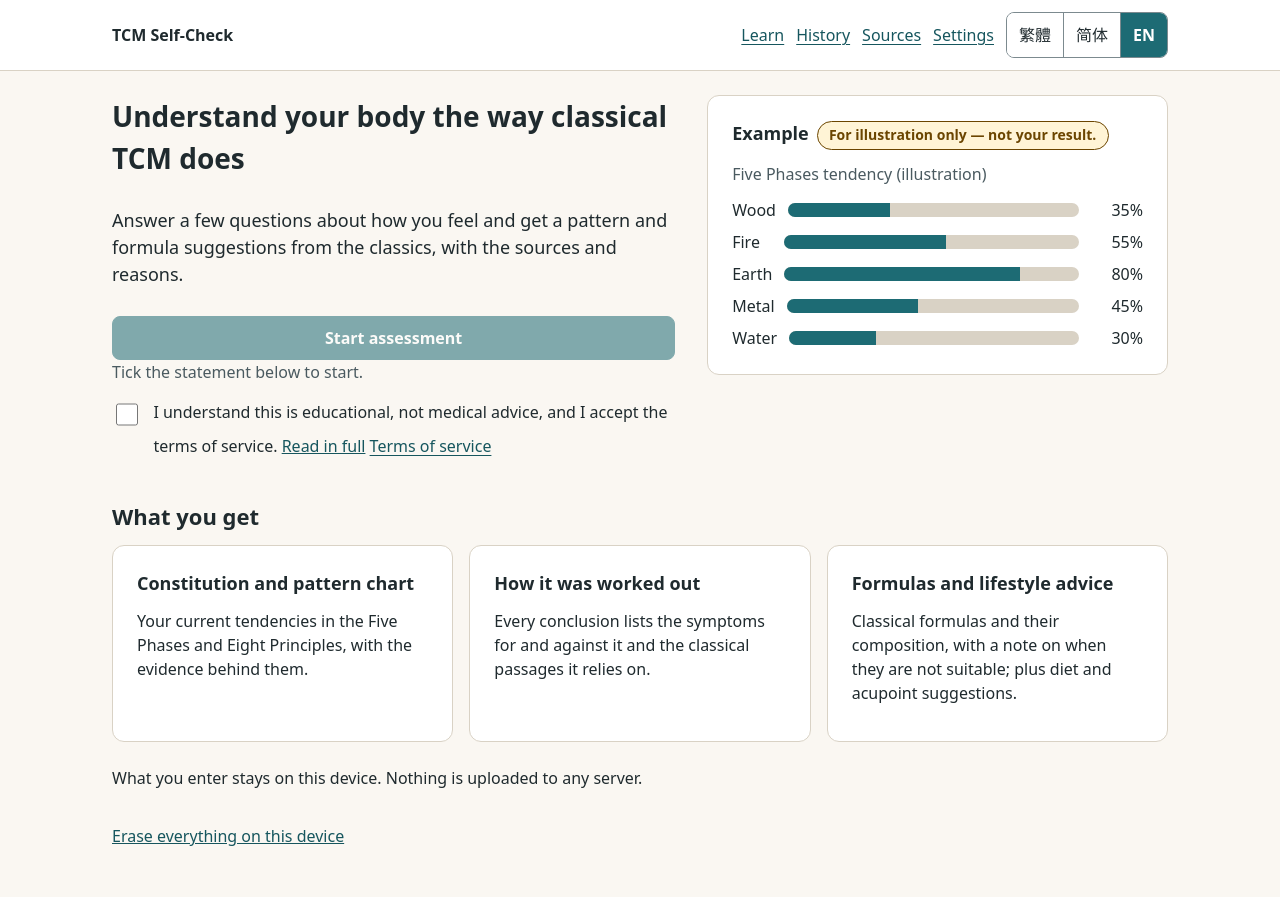
Test case: Landing (S01) › start is disabled, with the reason shown, until the statement is acknowledged
The image size is (1280, 897).
Expected: the button "Start assessment" is disabled, [112,316,675,360]
Click the checkbox labelled "I understand this is educational". click: {"x": 127, "y": 414}
box: [116,403,138,426]
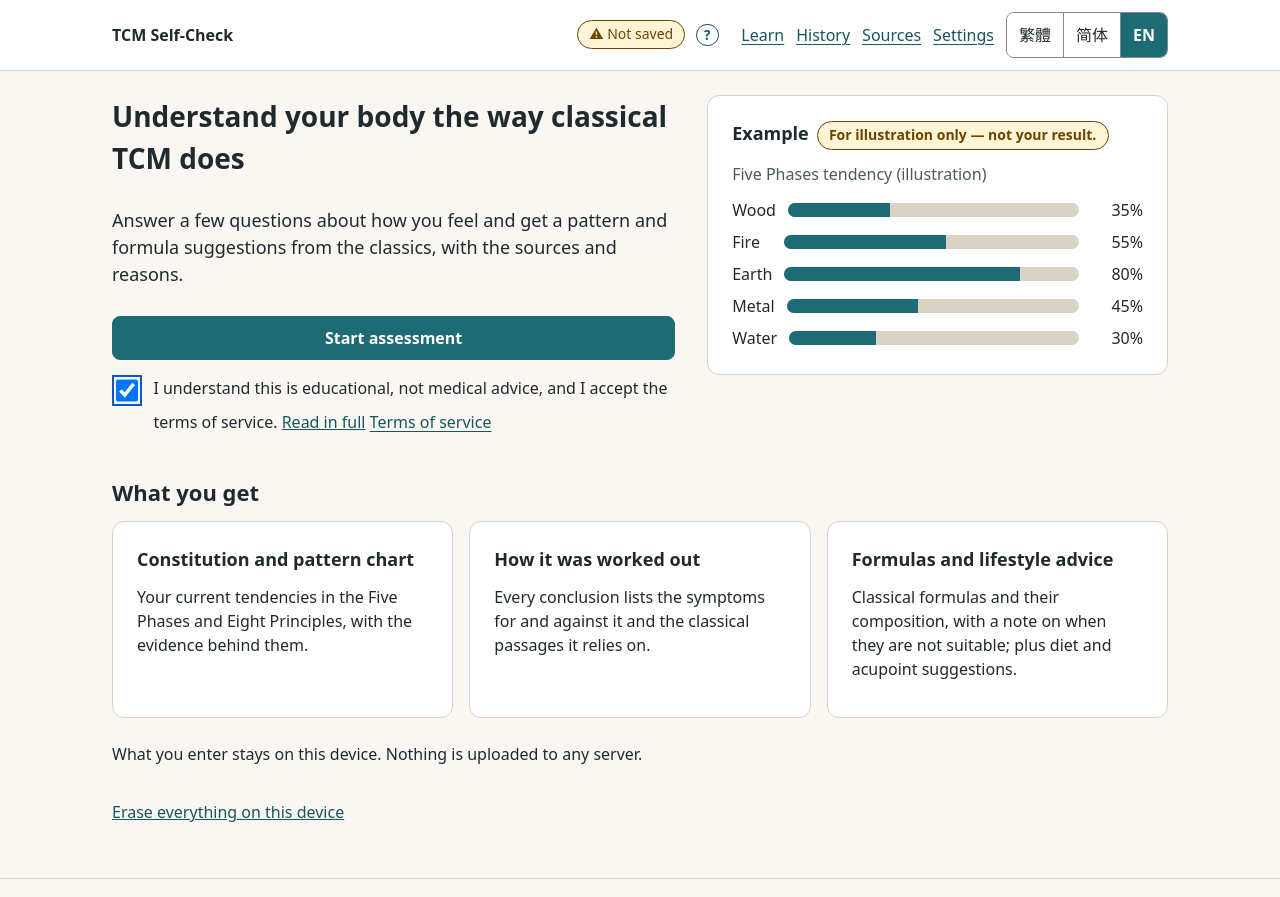
Result: the button "Start assessment" is enabled at [112,316,675,360]
Result: the text "Tick the statement below to start." is gone
